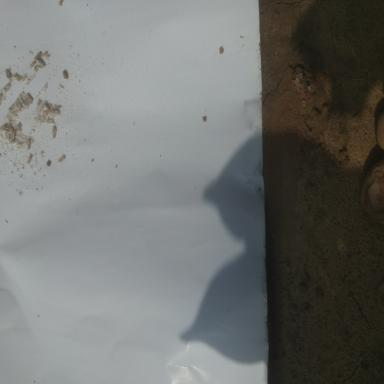pbw: (57, 153, 66, 163), (37, 56, 46, 66), (16, 98, 22, 112), (3, 69, 11, 79), (34, 51, 42, 60), (26, 154, 32, 164), (52, 124, 56, 138), (14, 72, 20, 81), (30, 60, 36, 68), (27, 138, 31, 150), (11, 130, 15, 140), (41, 51, 48, 56)
